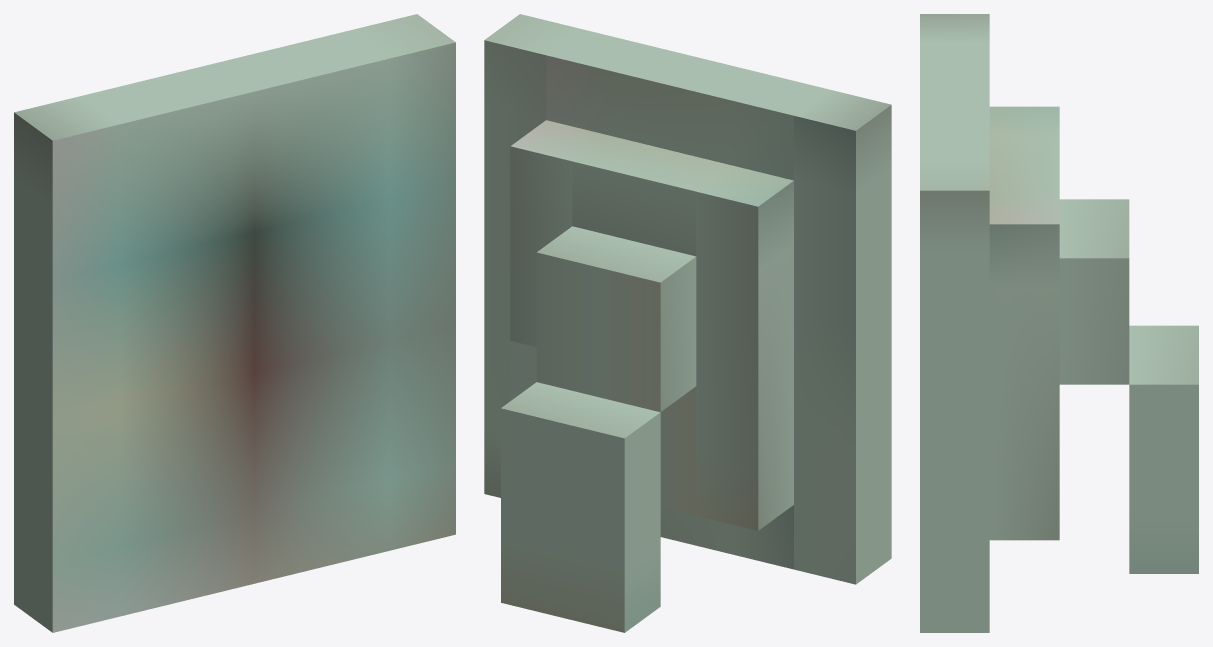
File: PaintingFrameWhite_02.fbx
3 renders of one model, left to right at view 1: azimuth 30°, elevation 25°; view 2: azimuth 150°, elevation 25°; view 3: azimuth 270°, elevation 25°, orthographic. The views are drawn at different scales.
Parts seen in each view (by area): view 1: PaintingFrameWhite_02; view 2: PaintingFrameWhite_02; view 3: PaintingFrameWhite_02.
Boxes of the visible parts, box(x1,y1,x2,y2) form: PaintingFrameWhite_02: box(14, 14, 455, 632); PaintingFrameWhite_02: box(484, 14, 891, 632); PaintingFrameWhite_02: box(920, 14, 1198, 632).
Size of the model in its own units: 30 by 20 by 35.
1 material, 1 textured.
